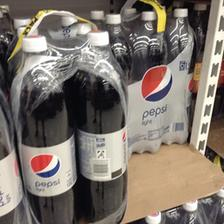Soda: (9, 33, 81, 223), (72, 29, 124, 223), (132, 10, 168, 152), (164, 6, 194, 144)
